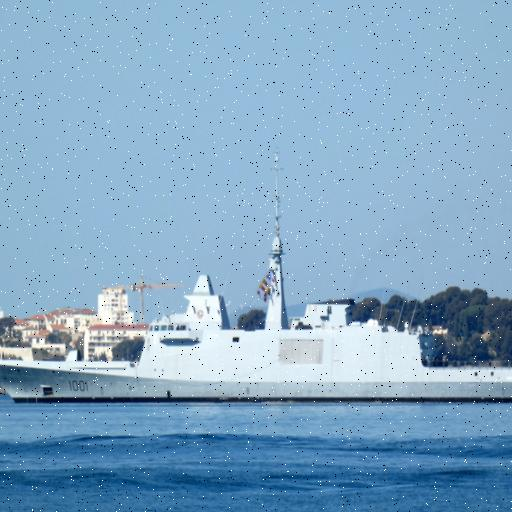Fragata: (1, 144, 512, 414)
